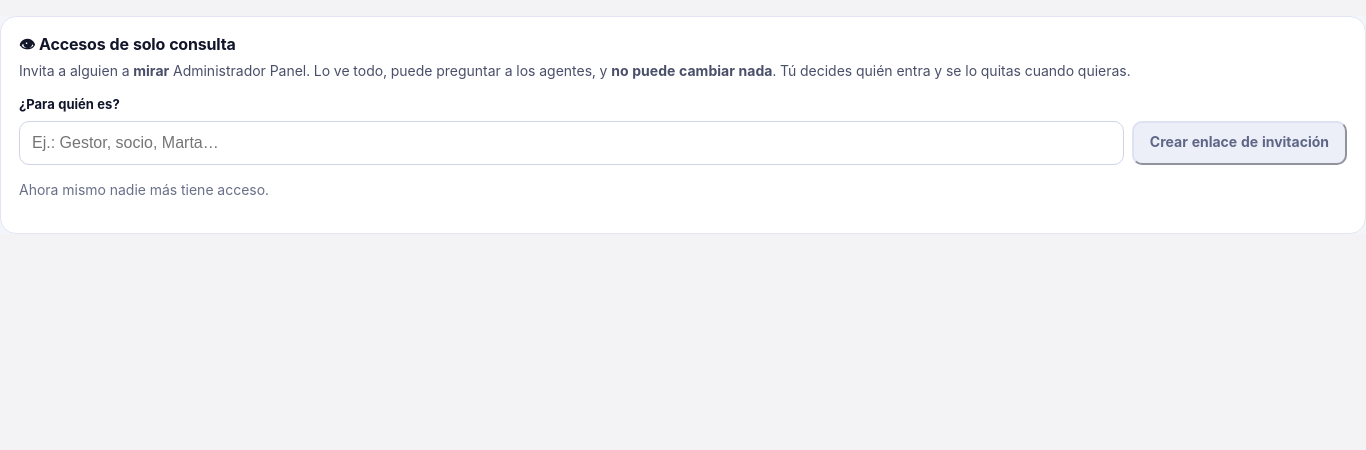
panel del propietario › crea la invitación, enseña el enlace una vez y lo copia
This screenshot has width=1366, height=450.
expect the text "Ahora mismo nadie más tiene acceso." is shown: met, box [19,181,269,198]
expect the button "Crear enlace de invitación" is disabled: met, box [1132,121,1347,165]
Type " Gestor " into the field labelled "¿Para quién es?" at point(571, 143), box [19,121,1124,165]
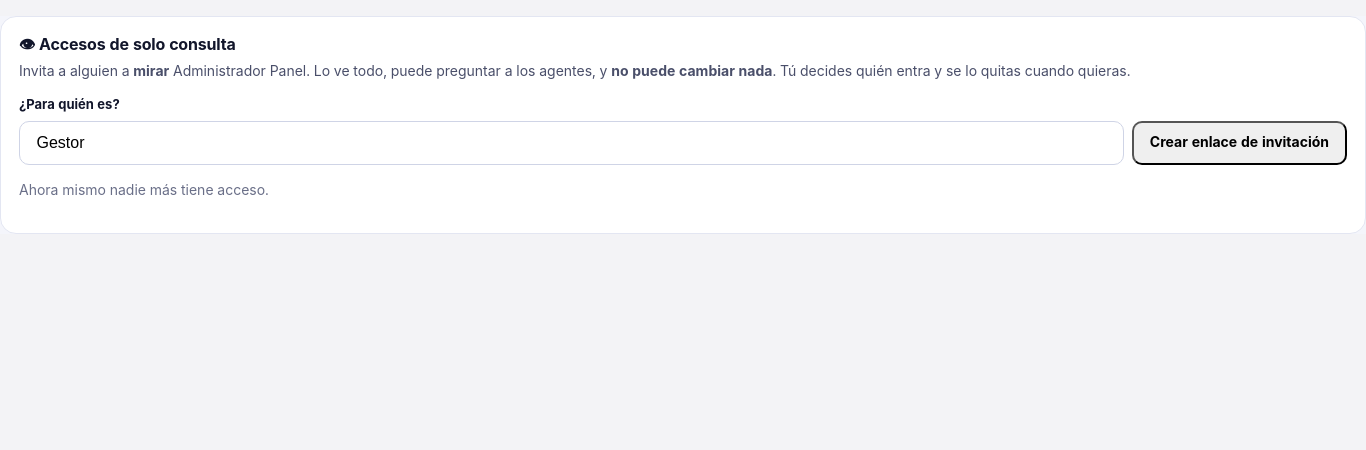
Click the button "Crear enlace de invitación" at point(1239, 143), box [1132,121,1347,165]
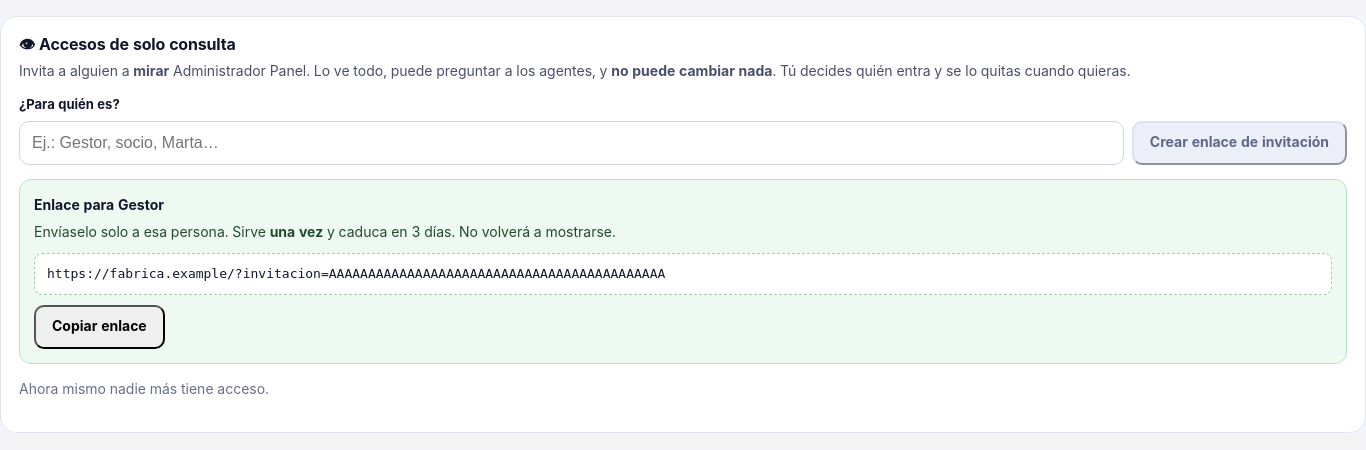
Click the button "Copiar enlace" at point(99, 327), box [34,305,165,349]
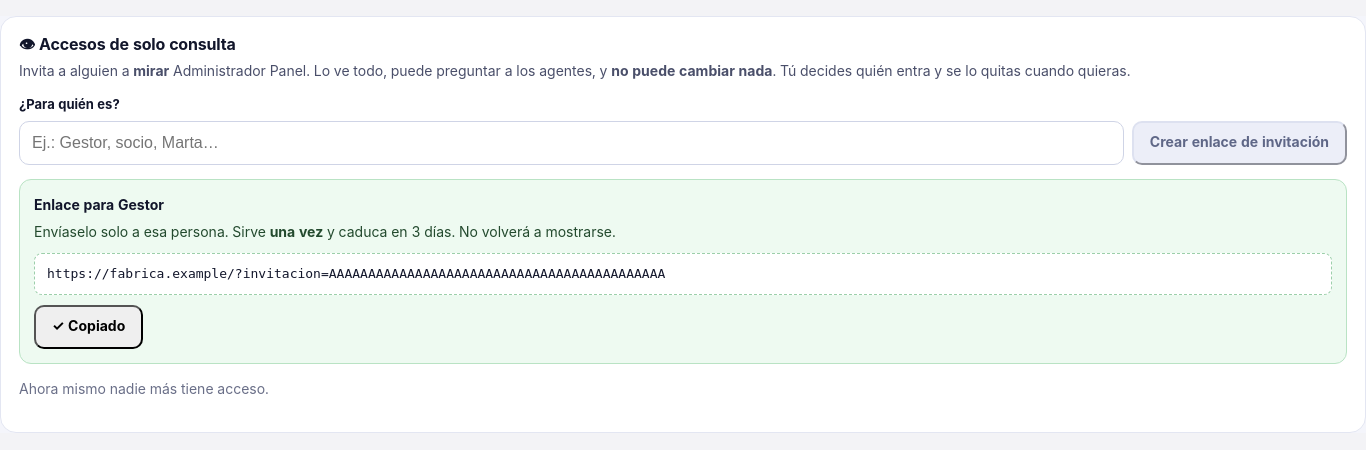
expect the button "✓ Copiado" is shown: met, box [34,305,143,349]
